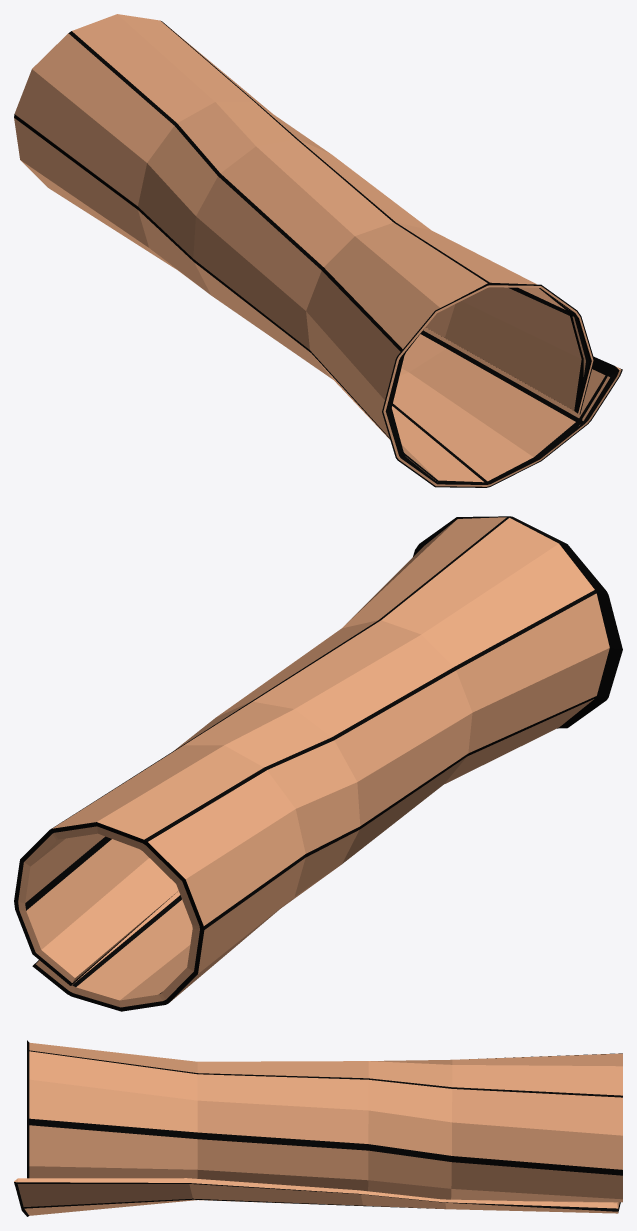
File: CardboardLog01.fbx
3 views of the same model, one above another, from view 1: azimuth 30°, elevation 25°; view 2: azimuth 150°, elevation 25°; view 3: azimuth 270°, elevation 25° (orthographic). The views are drawn at different scales.
Parts seen in each view (by area): view 1: Cylinder.001; view 2: Cylinder.001; view 3: Cylinder.001.
Part boxes in pixels (x1,y1,x2,y2): Cylinder.001: [14, 14, 622, 487]; Cylinder.001: [14, 516, 622, 1011]; Cylinder.001: [14, 1040, 622, 1216].
Size of the model in its own units: 281 by 235 by 824.
